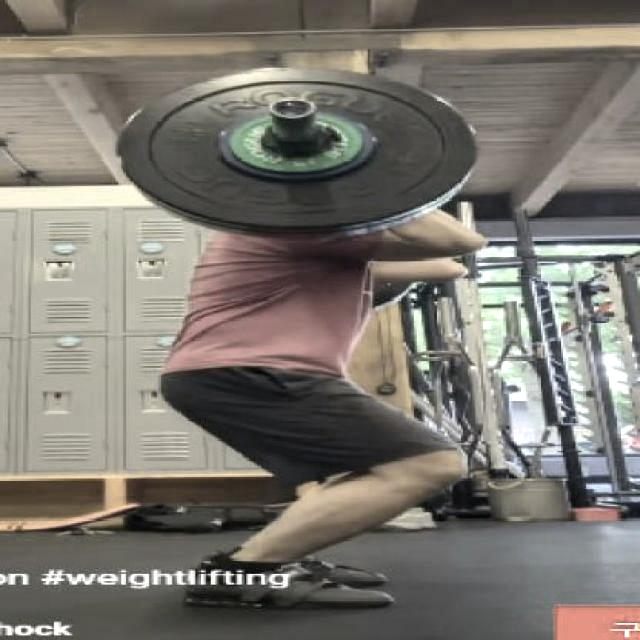barbell: (108, 60, 484, 242)
